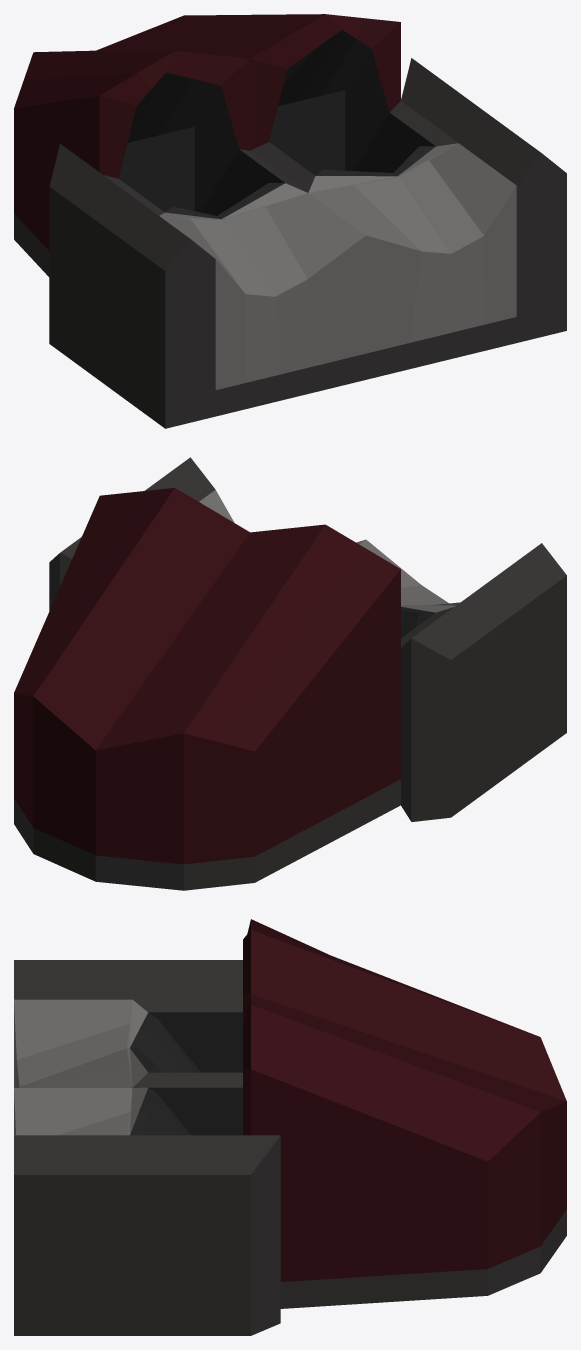
Rendered from Bowling Ball Feeder.fbx.
The picture shows the model from 3 angles, top to bottom: view 1: azimuth 30°, elevation 25°; view 2: azimuth 150°, elevation 25°; view 3: azimuth 270°, elevation 25°; orthographic projection. The views are drawn at different scales.
Parts seen in each view (by area): view 1: Bowling Ball Feeder; view 2: Bowling Ball Feeder; view 3: Bowling Ball Feeder.
Part boxes in pixels (x1,y1,x2,y2): Bowling Ball Feeder: (14,14,566,428); Bowling Ball Feeder: (14,457,566,890); Bowling Ball Feeder: (14,919,566,1335).
Size of the model in its own units: 1601 by 1000 by 1867.
